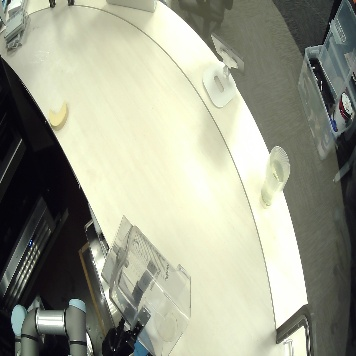empty_cup: (259, 145, 291, 208), (153, 297, 185, 343)
puck: (48, 102, 69, 131)
